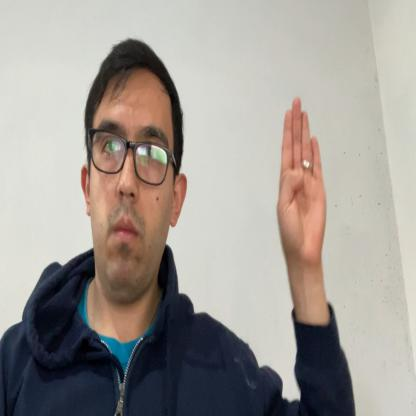B: (278, 95, 328, 263)
